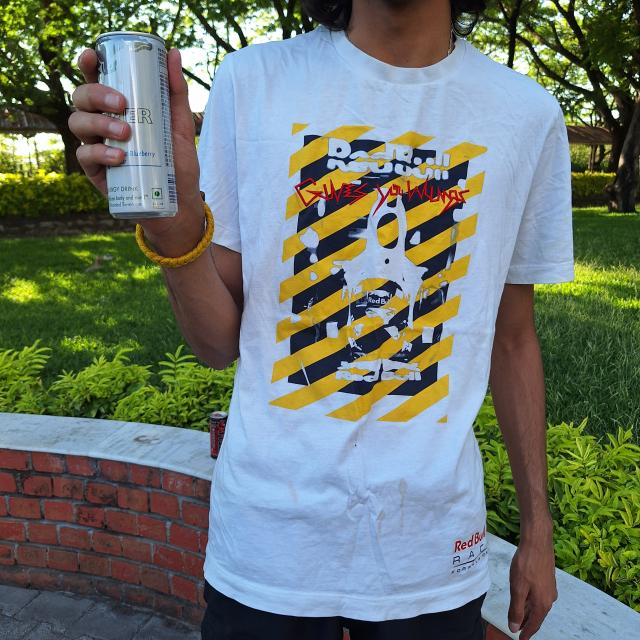Redbull Summer Edition: (95, 32, 181, 218)
